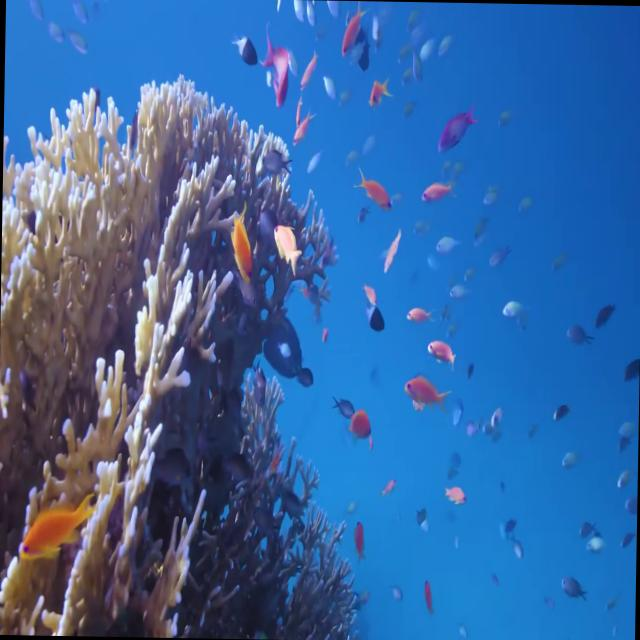fish: (14, 484, 95, 567), (227, 198, 260, 280), (260, 33, 293, 107), (336, 0, 378, 54), (400, 372, 450, 415), (437, 102, 476, 157), (270, 218, 302, 284), (408, 172, 456, 215), (353, 162, 394, 212), (552, 562, 592, 610), (364, 60, 396, 116), (418, 331, 462, 369), (480, 404, 516, 448), (497, 284, 528, 334), (226, 28, 262, 69), (357, 290, 387, 338), (352, 396, 378, 450), (399, 296, 438, 331), (592, 284, 622, 329), (348, 512, 371, 570), (436, 475, 469, 512), (563, 318, 598, 351), (299, 46, 323, 94), (363, 1, 394, 38), (334, 388, 359, 426), (434, 32, 458, 71), (417, 27, 438, 70), (618, 350, 640, 388), (418, 577, 436, 622), (549, 391, 570, 429), (554, 446, 581, 474), (286, 0, 304, 28)
